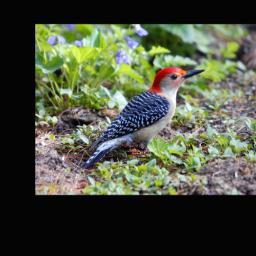Woodpecker: (80, 67, 205, 170)
